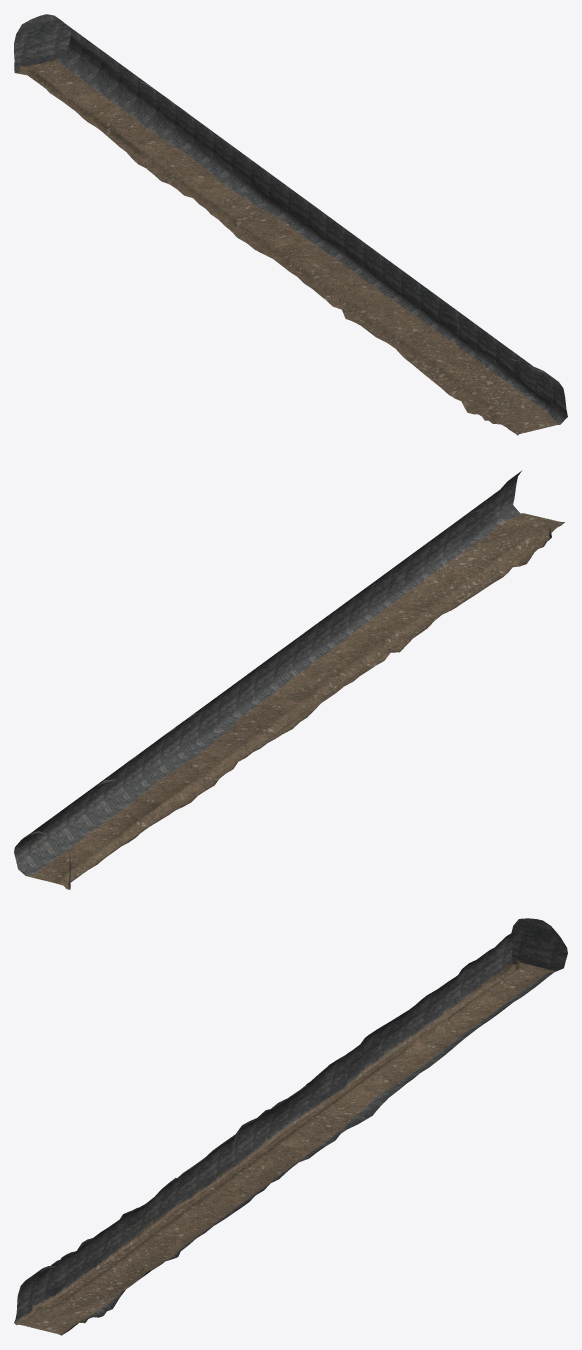
The model's file is TunnelC.glb.
3 views of the same model, one above another, from view 1: azimuth 30°, elevation 25°; view 2: azimuth 150°, elevation 25°; view 3: azimuth 330°, elevation 25° (orthographic).
Parts seen in each view (by area): view 1: TunnelC; view 2: TunnelC; view 3: TunnelC.
Part boxes in pixels (box(x1,y1,x2,y2)): TunnelC: box(14, 14, 567, 435); TunnelC: box(14, 470, 564, 889); TunnelC: box(14, 918, 567, 1335).
Size of the model in its own units: 3.46 by 3.32 by 49.27.
Materials: 1 (1 with a texture image).
